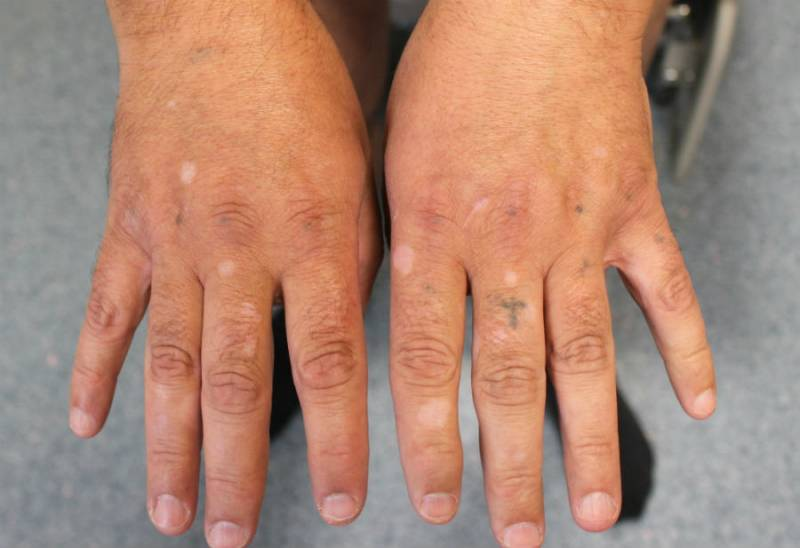vitiligo: (160, 129, 500, 326)
